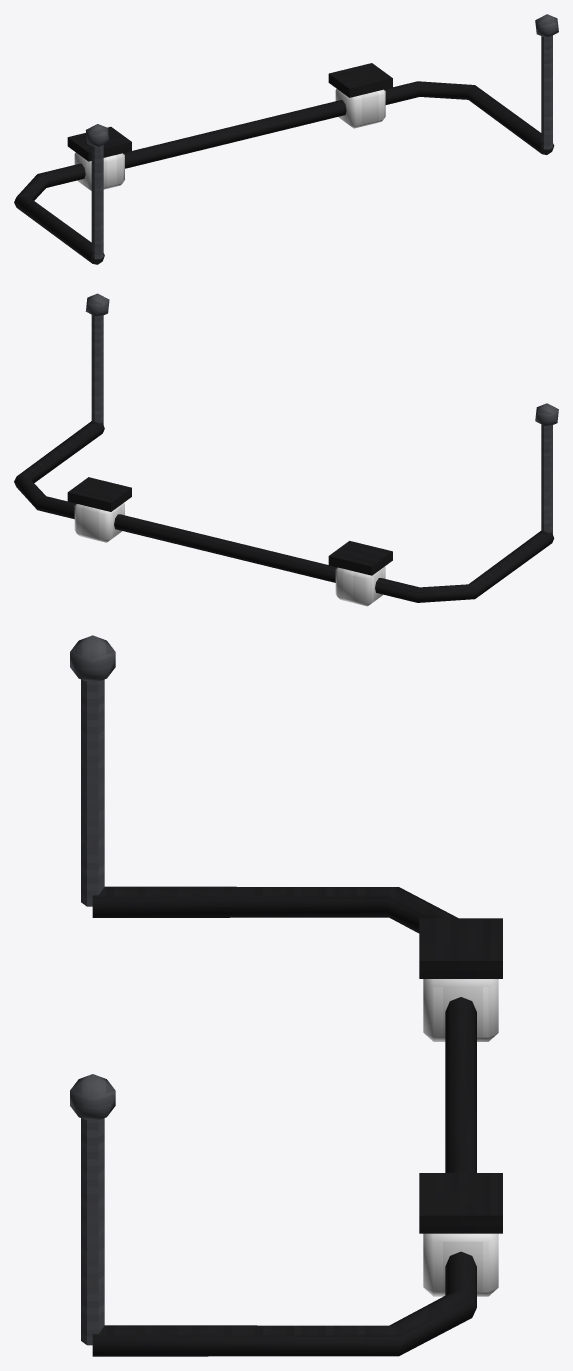
The model's file is barras_fabrica.glb.
3 views of the same model, one above another, from view 1: azimuth 30°, elevation 25°; view 2: azimuth 150°, elevation 25°; view 3: azimuth 270°, elevation 25° (orthographic). The views are drawn at different scales.
Visible parts, largest first — view 1: barras_fabrica; view 2: barras_fabrica; view 3: barras_fabrica.
Part boxes in pixels (bbox=[...]): barras_fabrica: bbox=[14, 14, 558, 264]; barras_fabrica: bbox=[14, 293, 558, 606]; barras_fabrica: bbox=[70, 635, 502, 1356].
Size of the model in its own units: 0.6486 by 0.1985 by 0.2586.
2 materials, 2 textured.
